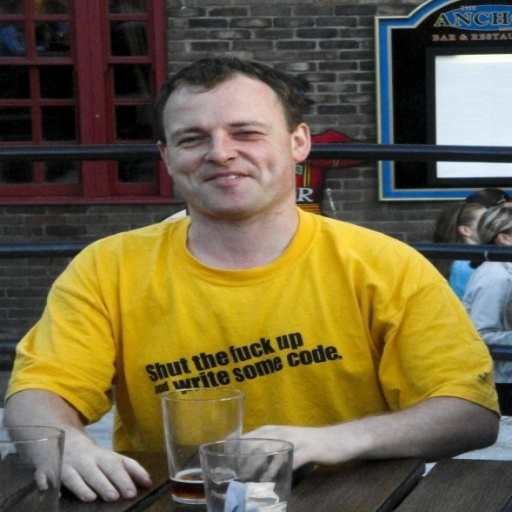hand: (215, 421, 342, 486), (51, 441, 154, 509)
